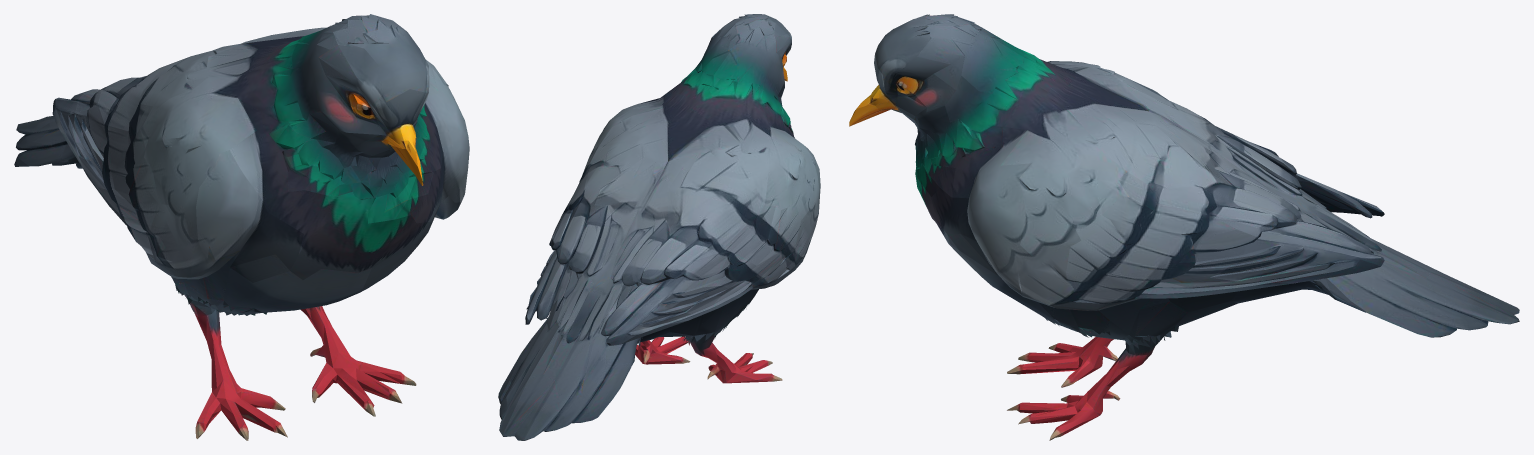
File: pigeon.glb
3 views of the same model, side by side, from view 1: azimuth 30°, elevation 25°; view 2: azimuth 150°, elevation 25°; view 3: azimuth 270°, elevation 25° (orthographic). The views are drawn at different scales.
Bounding box in the file's own units: 0.8055 × 1.18 × 1.9.
1 material, 1 textured.
